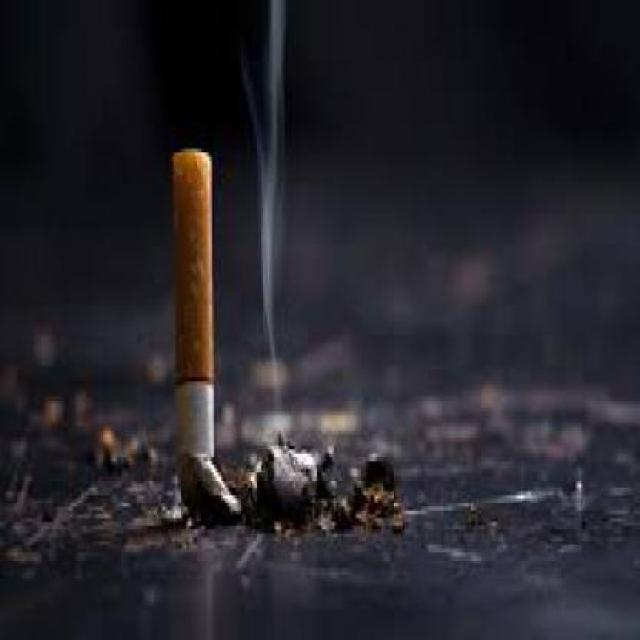cigarette: (159, 145, 246, 549)
